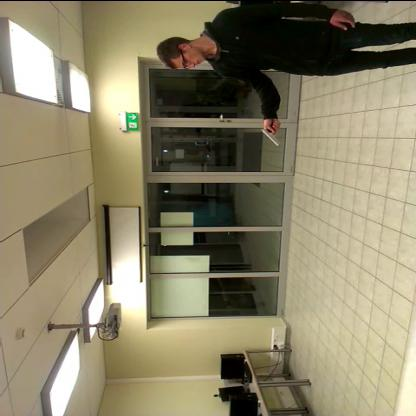Pistol: (250, 115, 294, 148)
